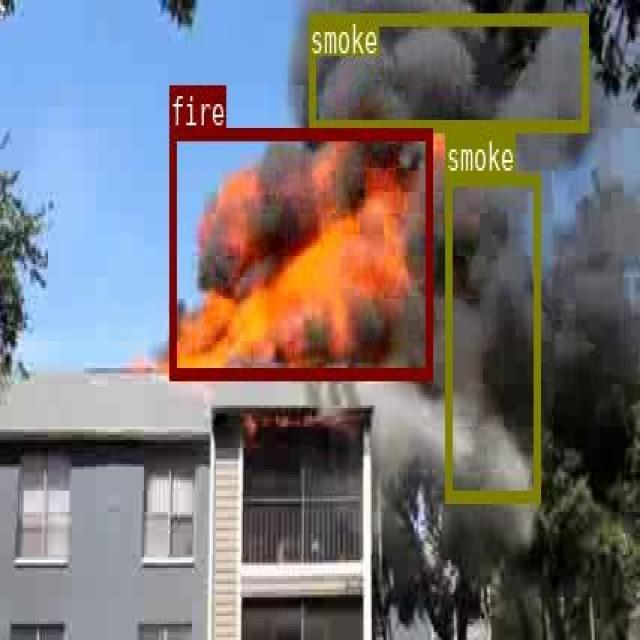fire: (169, 127, 432, 378)
smoke: (308, 12, 587, 129), (444, 172, 539, 501)
